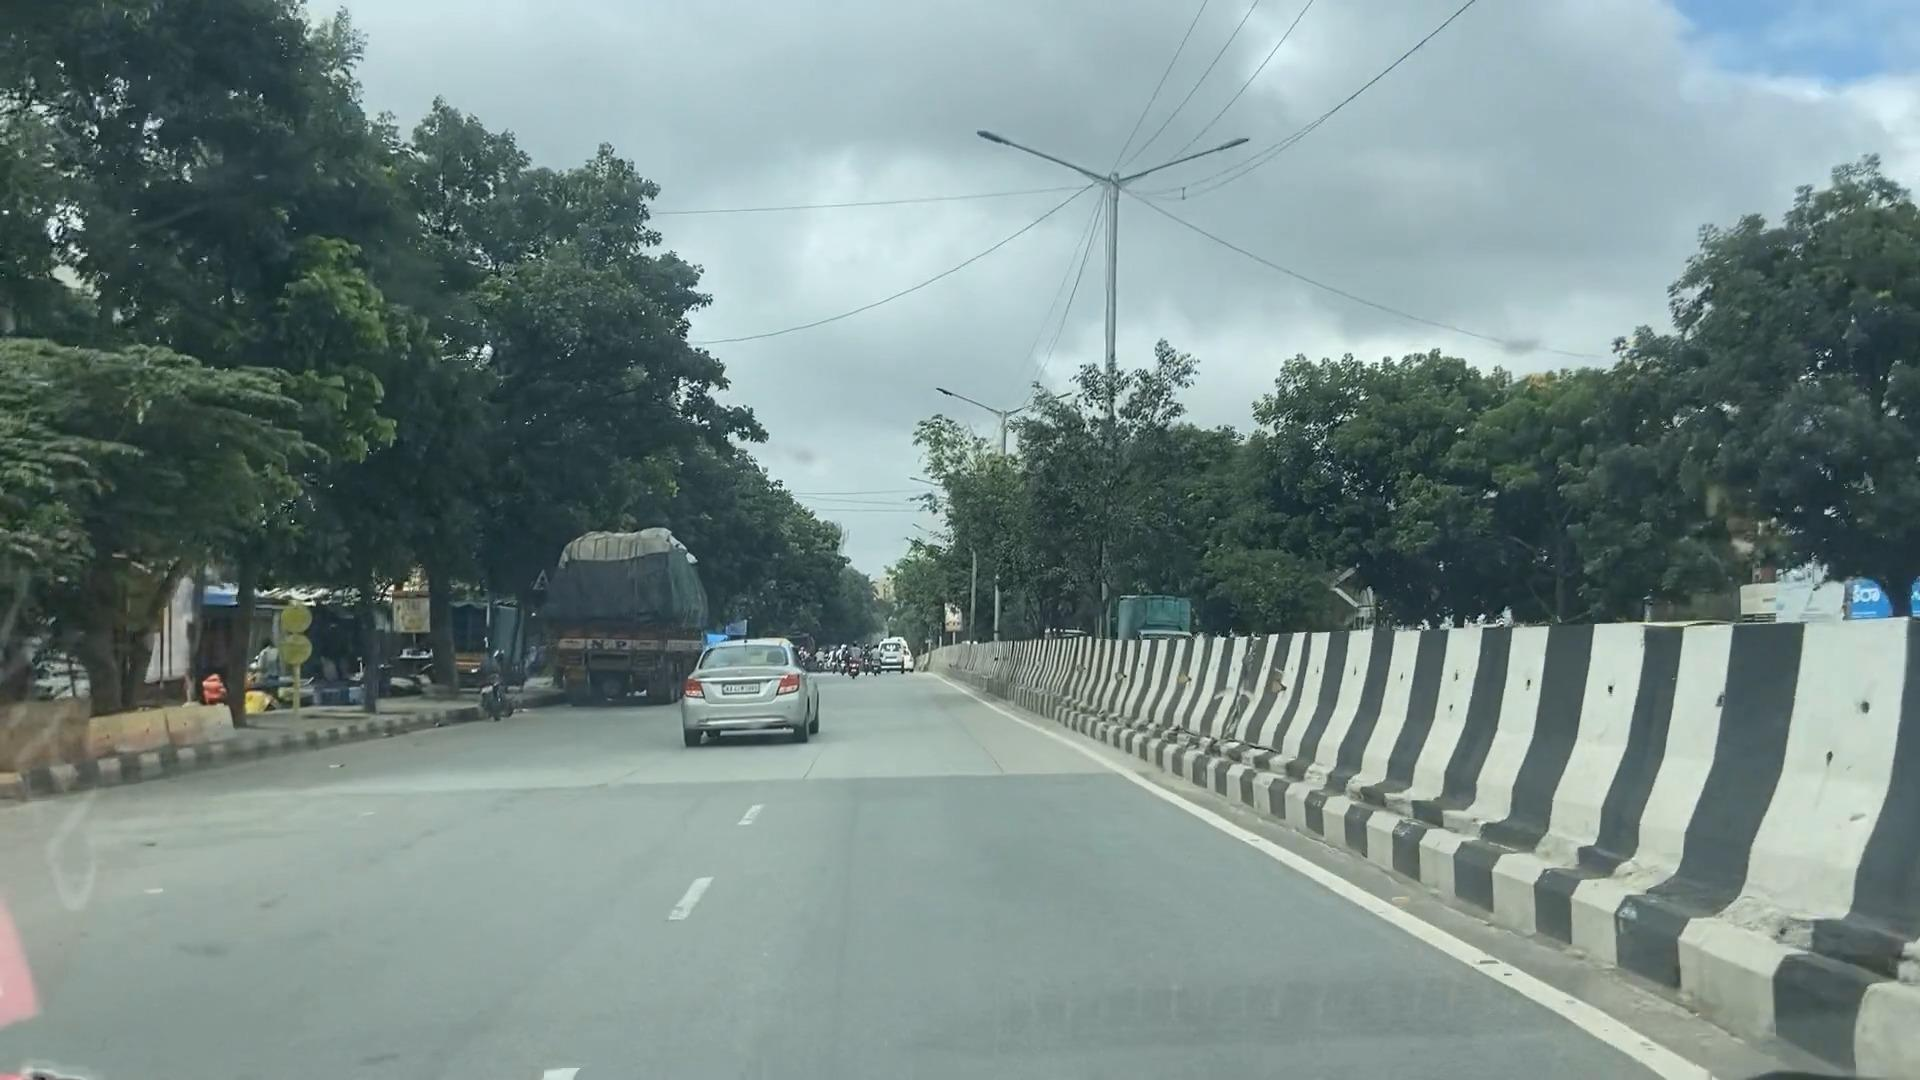LMV: (669, 628, 819, 736)
